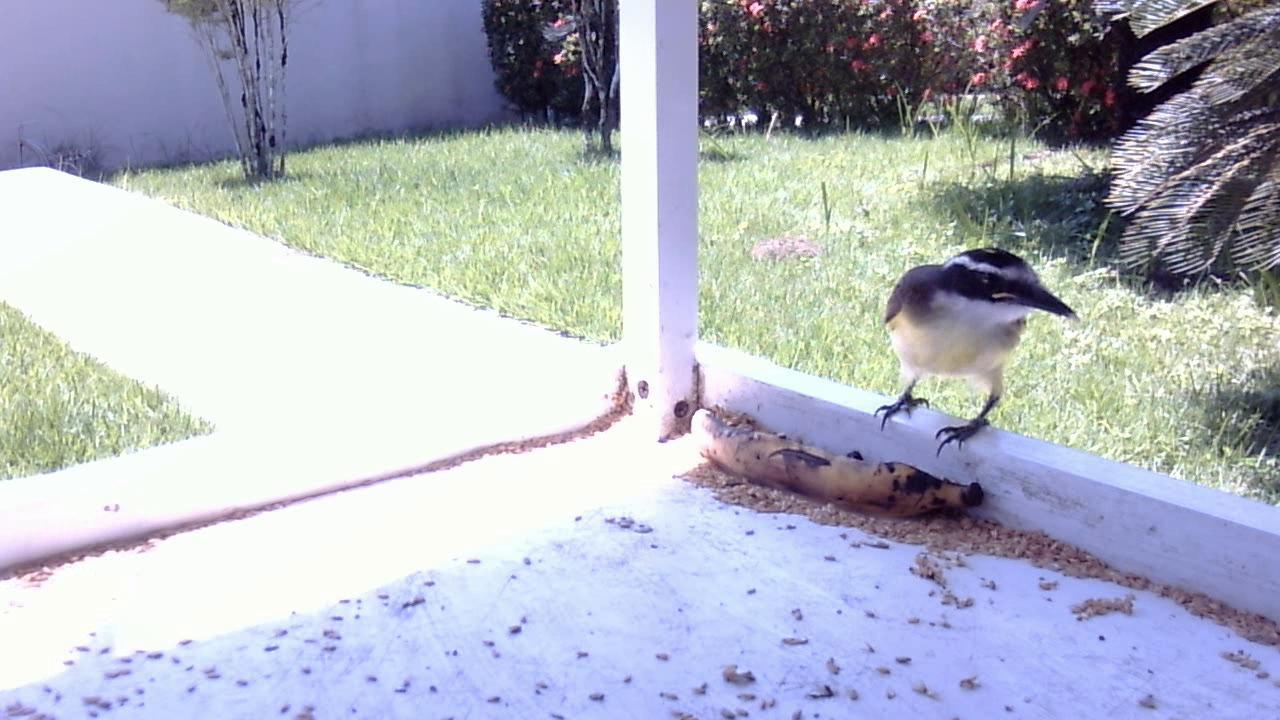bem_te_vi: (865, 238, 1085, 470)
